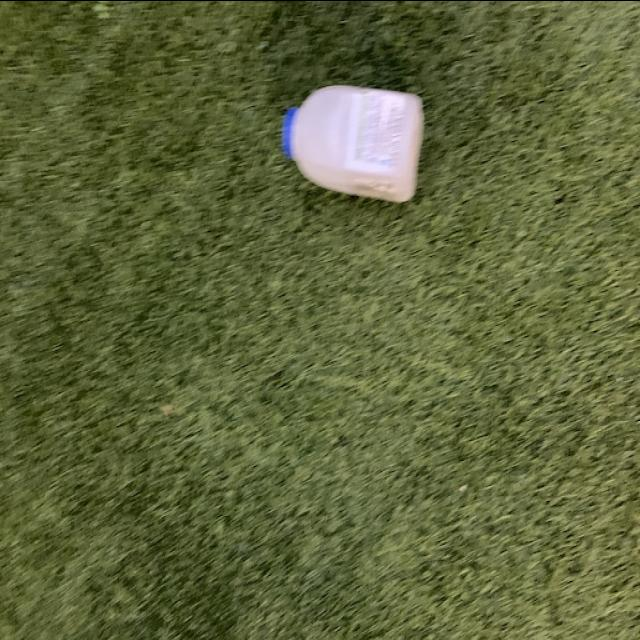litter: (279, 84, 430, 198)
